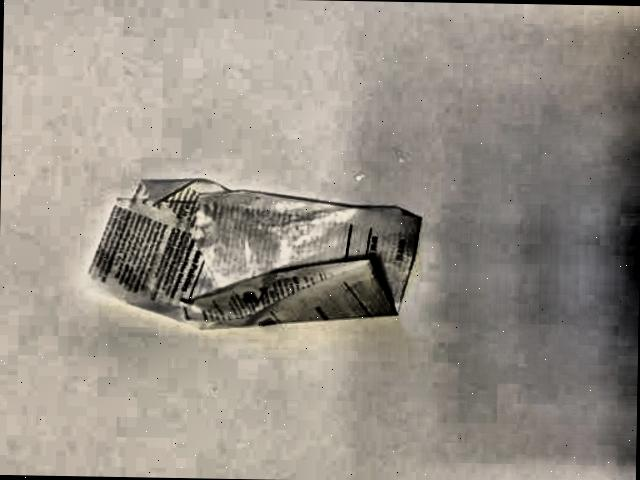Paper: (78, 172, 426, 336)
